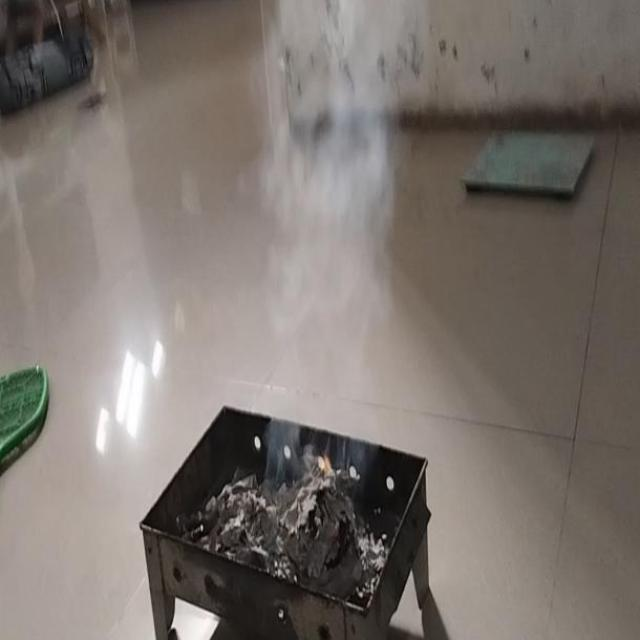fire: (250, 0, 400, 421)
